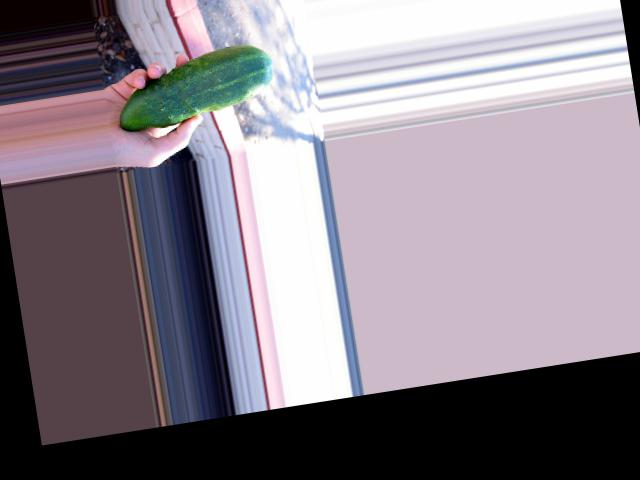cucumber: (111, 39, 278, 133)
